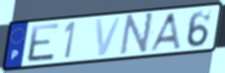1: (63, 20, 78, 60)
6: (186, 9, 213, 48)
A: (147, 11, 183, 53)
E: (26, 21, 62, 64)
N: (118, 10, 156, 57)
V: (94, 15, 124, 58)
